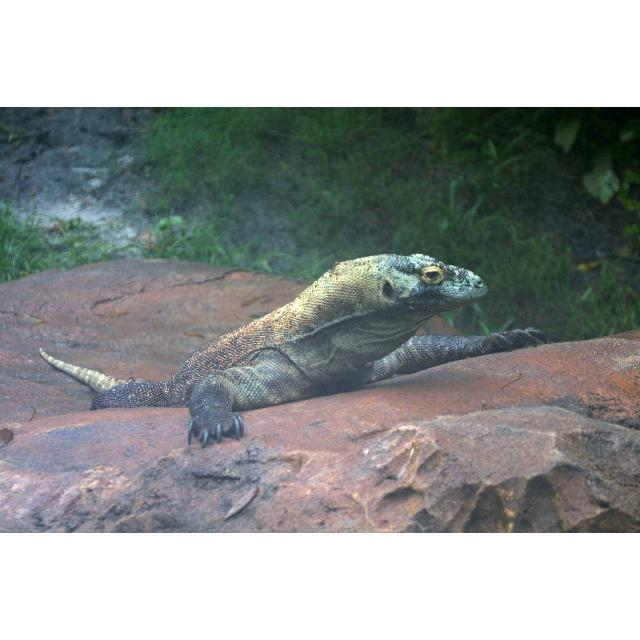KomodoDragon: (36, 252, 550, 451)
